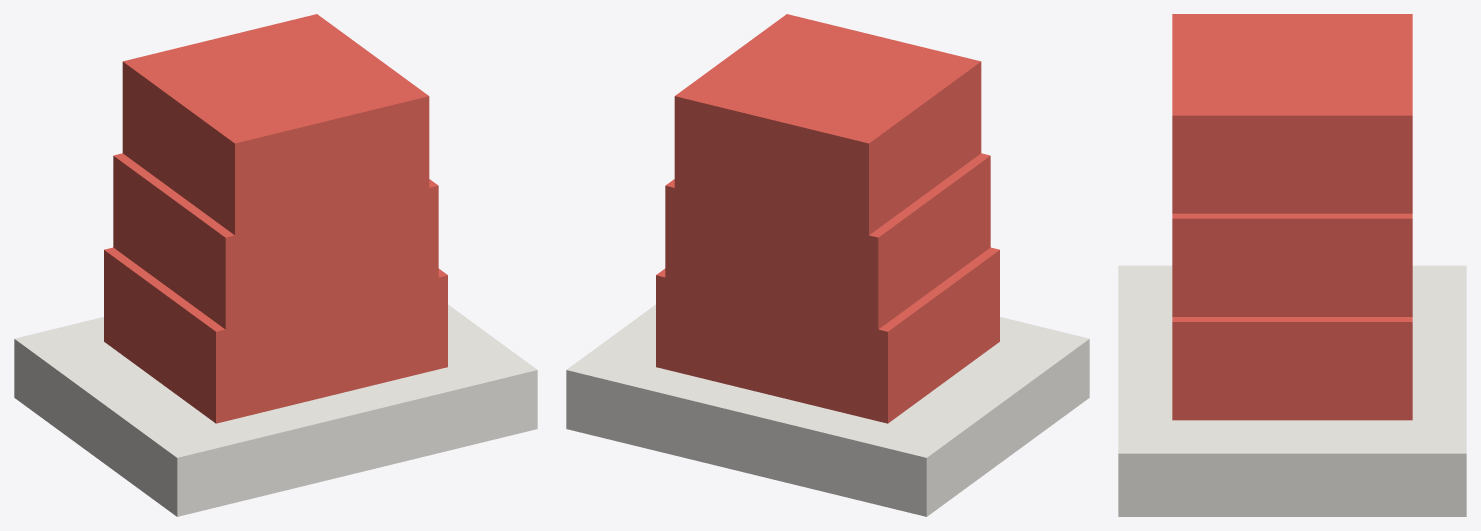
Rendered from training_corner-lv3.glb.
3 renders of one model, left to right at view 1: azimuth 30°, elevation 25°; view 2: azimuth 150°, elevation 25°; view 3: azimuth 270°, elevation 25°, orthographic. The views are drawn at different scales.
Visible parts, largest first — view 1: Base, Level3, Level1, Level2; view 2: Base, Level3, Level1, Level2; view 3: Base, Level3, Level1, Level2.
Boxes of the visible parts, <box> form: Base: <box>14,304,537,516</box>; Level3: <box>122,14,429,235</box>; Level1: <box>104,247,447,423</box>; Level2: <box>113,153,438,329</box>; Base: <box>566,304,1089,516</box>; Level3: <box>674,14,981,235</box>; Level1: <box>656,247,999,423</box>; Level2: <box>665,153,990,329</box>; Base: <box>1118,265,1466,516</box>; Level3: <box>1172,14,1412,213</box>; Level1: <box>1172,317,1412,420</box>; Level2: <box>1172,213,1412,316</box>.
Bounding box in the file's own units: 1.15 × 1.02 × 0.9.
